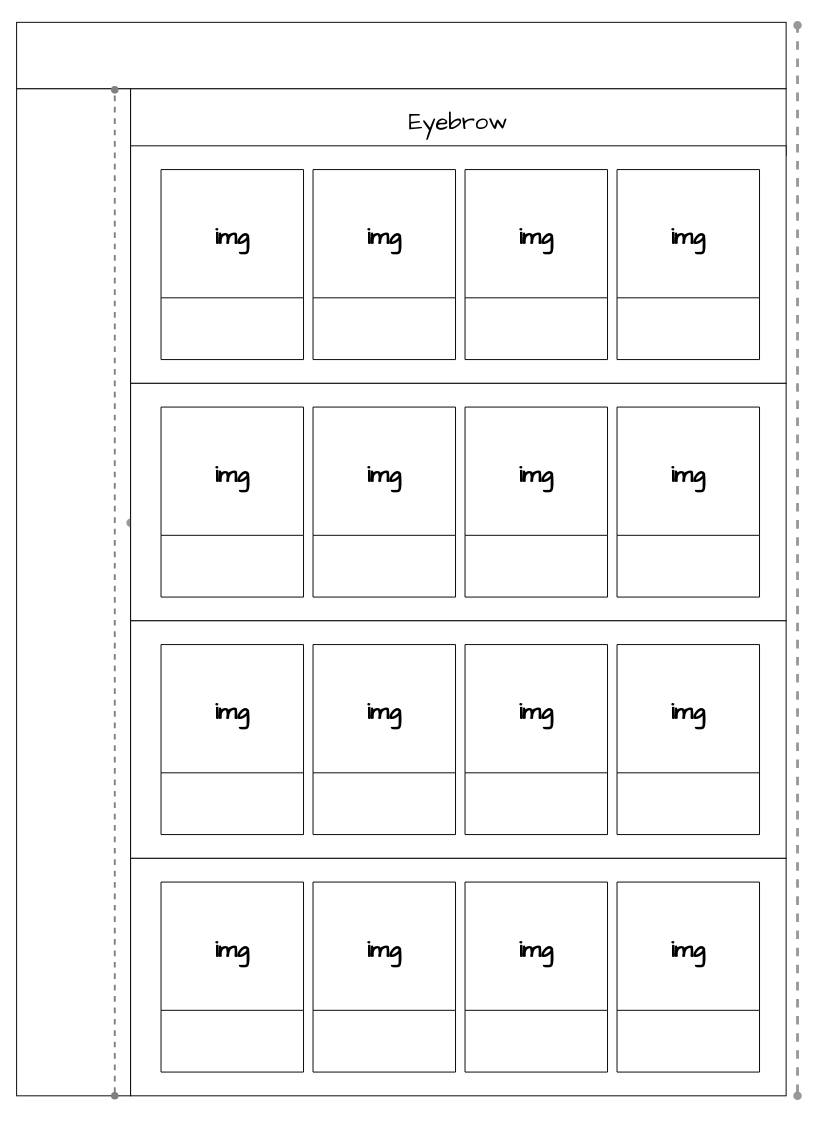
The diagram is 824 pixels wide and 1122 high, and some of its shapes have lost their labels. The centre of each missing label's shape, as x and y in pixels:
header: (x=401, y=55)
menu: (x=73, y=592)
